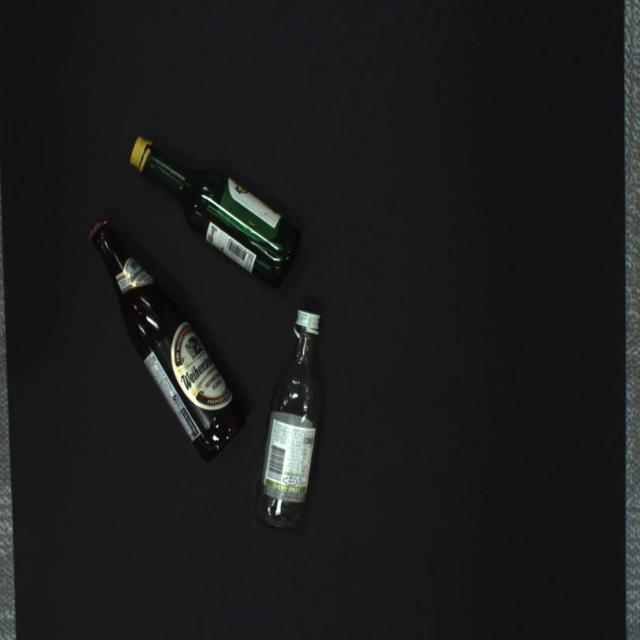beer-bottle: (88, 219, 246, 462)
soju-bottle: (130, 137, 300, 286), (255, 309, 322, 531)
